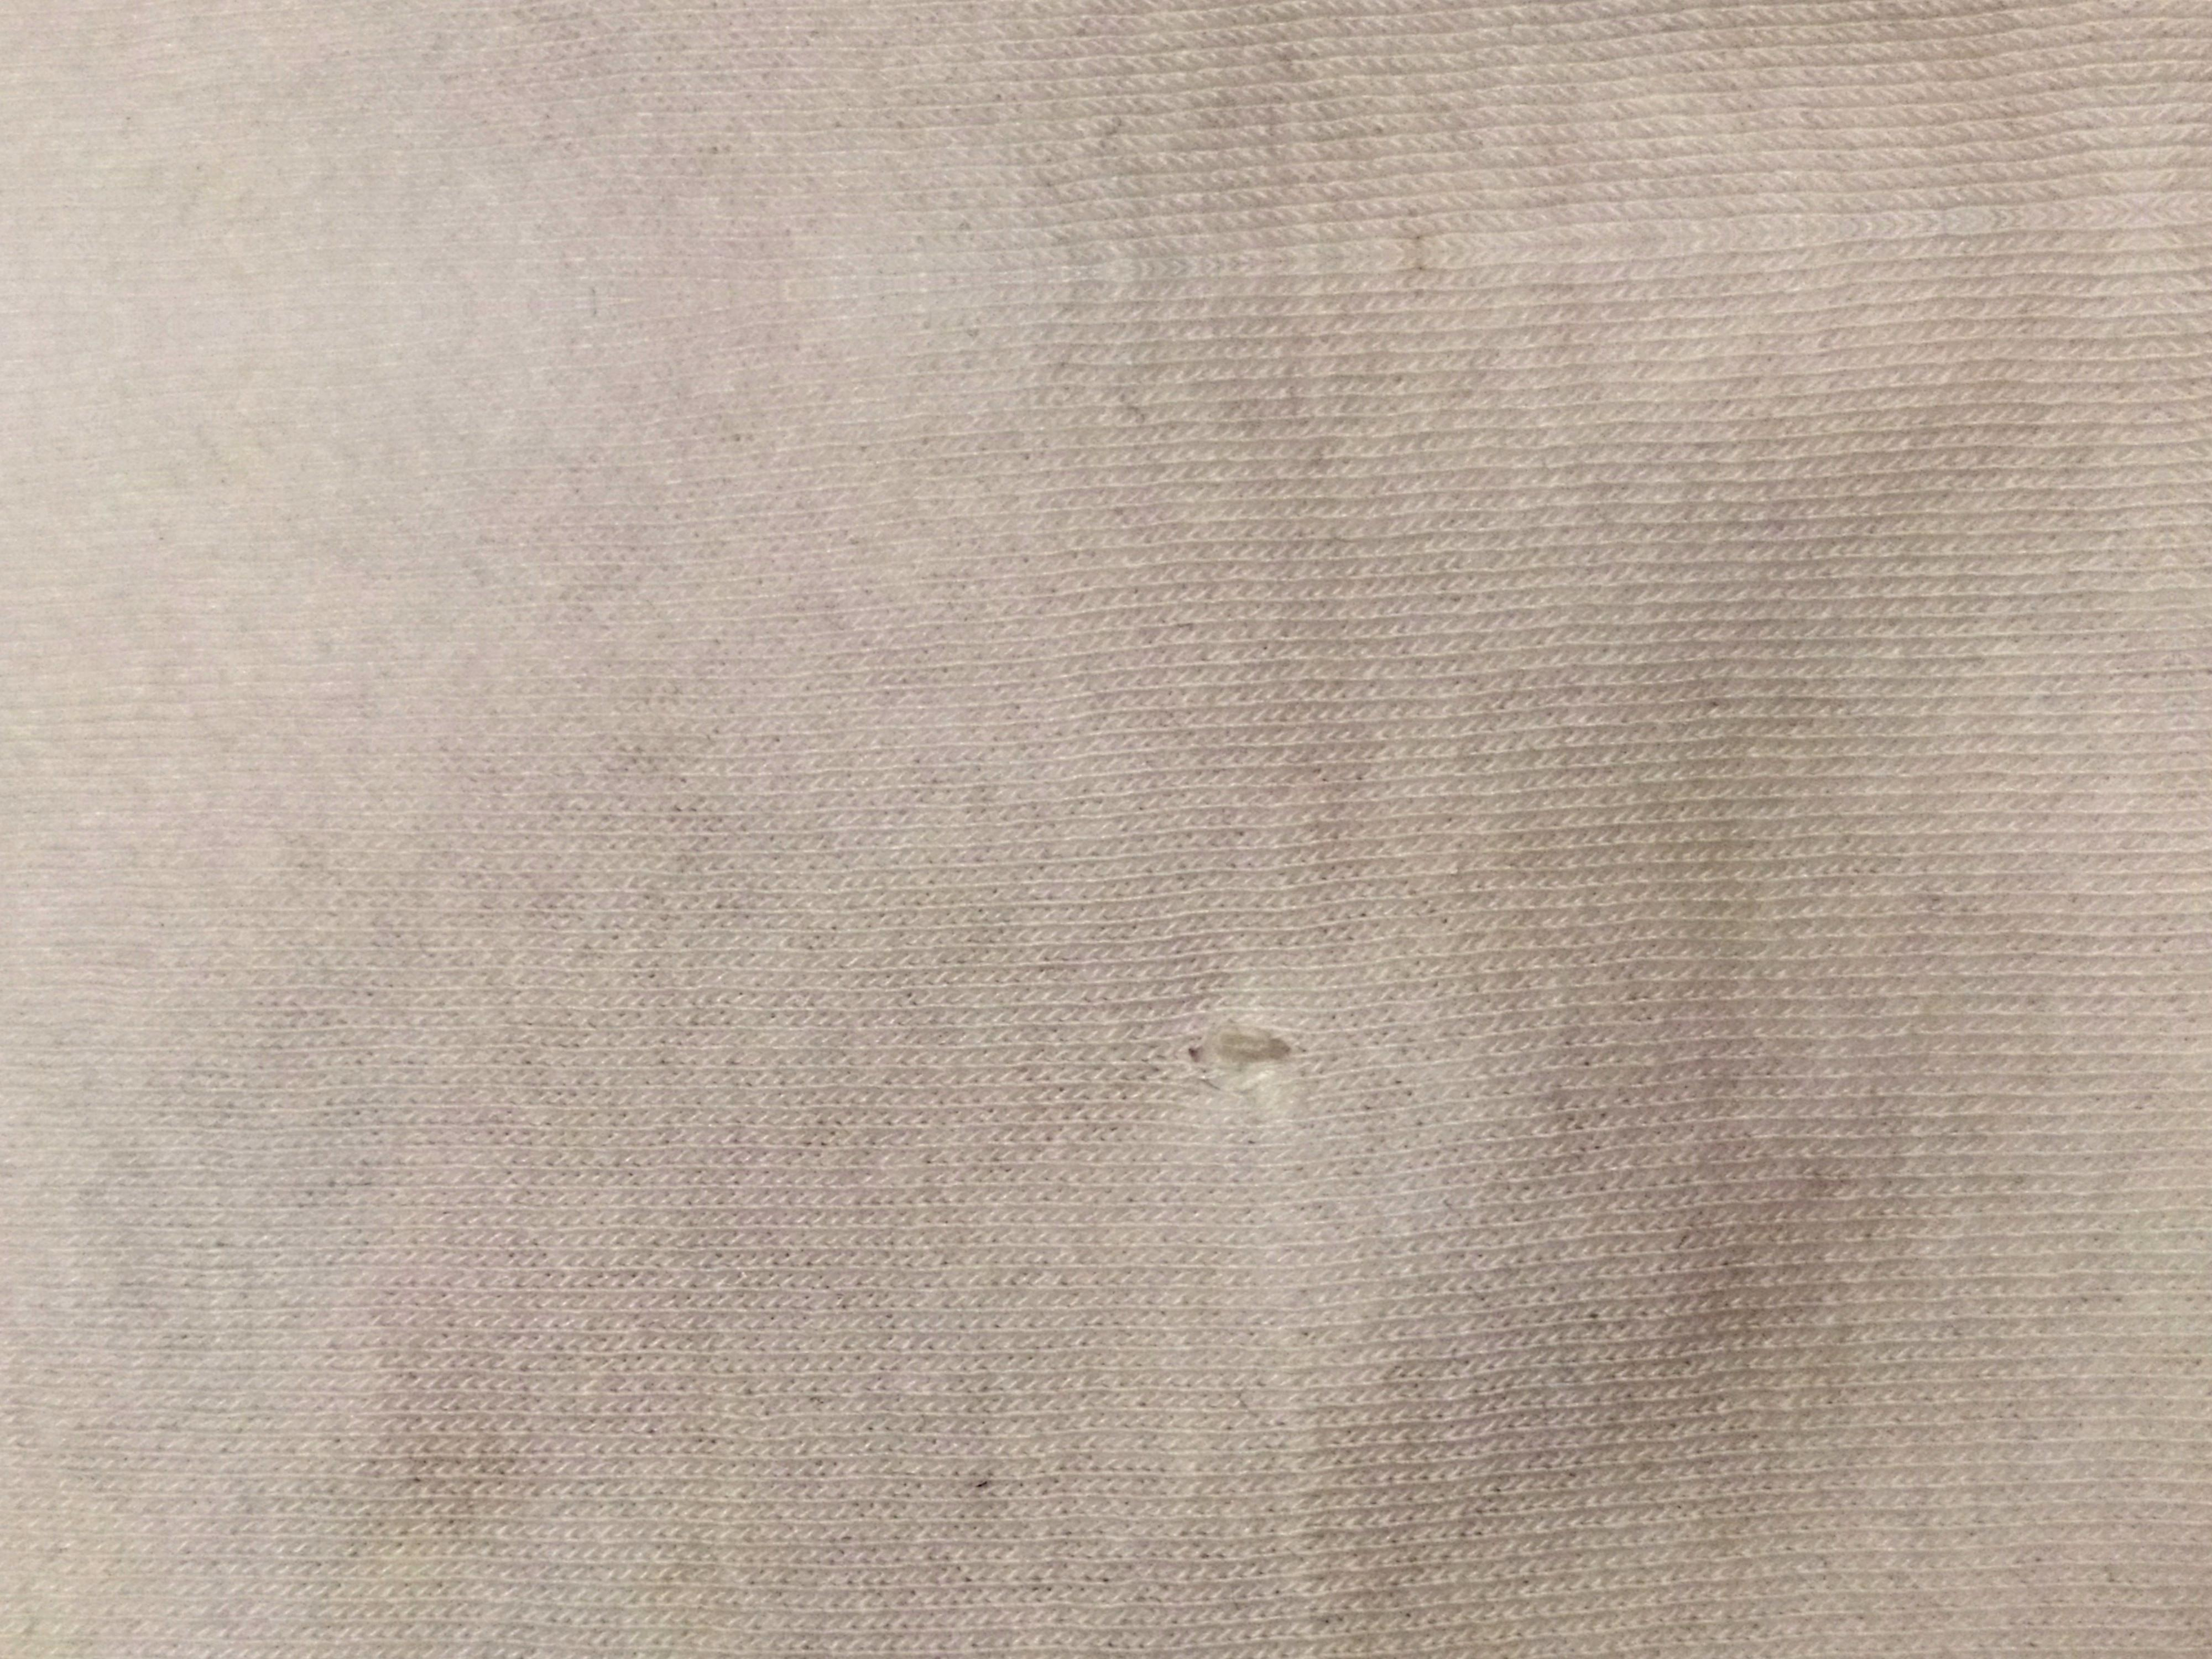knot: (1157, 1002, 1324, 1127)
